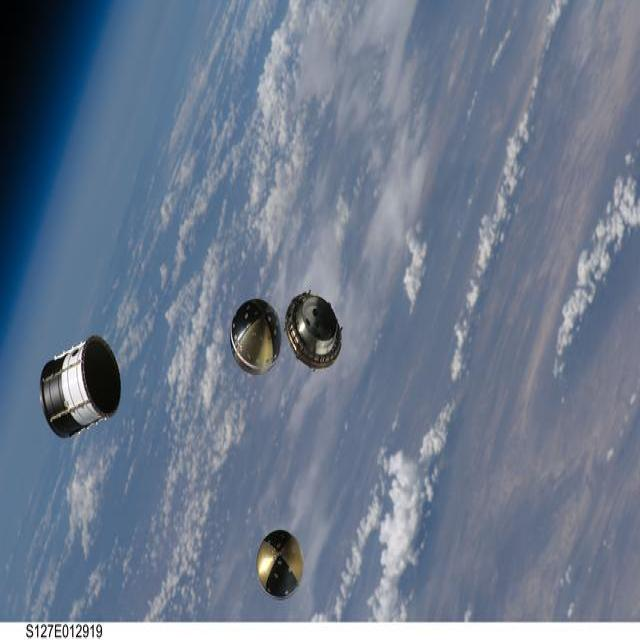satellite: (40, 335, 120, 437), (285, 293, 341, 368), (230, 298, 281, 374), (256, 531, 304, 598)
